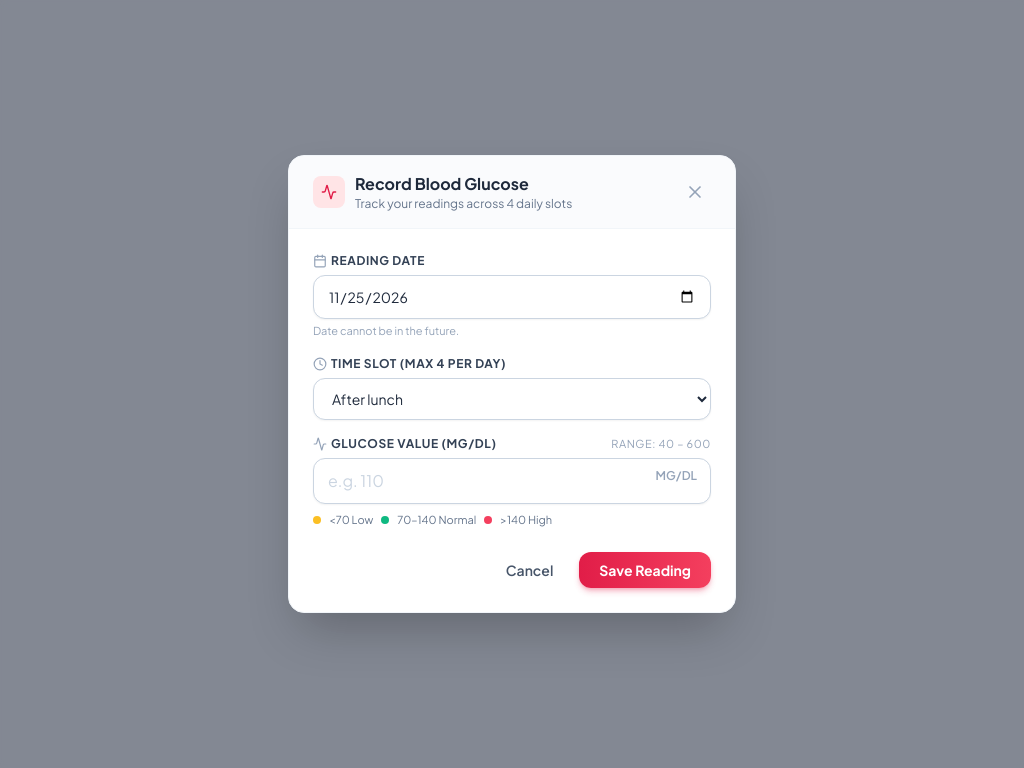
Scenario: ReadingModal Form Component & Validation Rules › displays backend error message if backend rejects request (e.g. duplicate slot)
In the number field with test id "input-value": (512, 480) [313, 458, 711, 504], type "140"
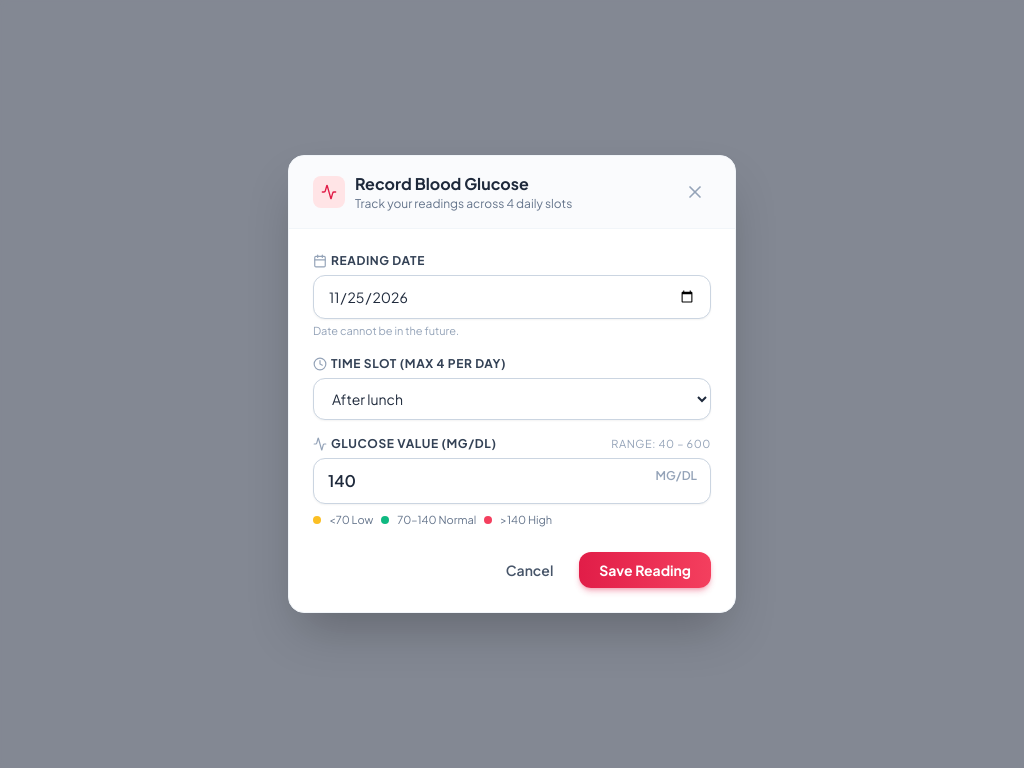
Click the button with test id "submit-reading-btn": click(645, 570) [579, 552, 711, 588]
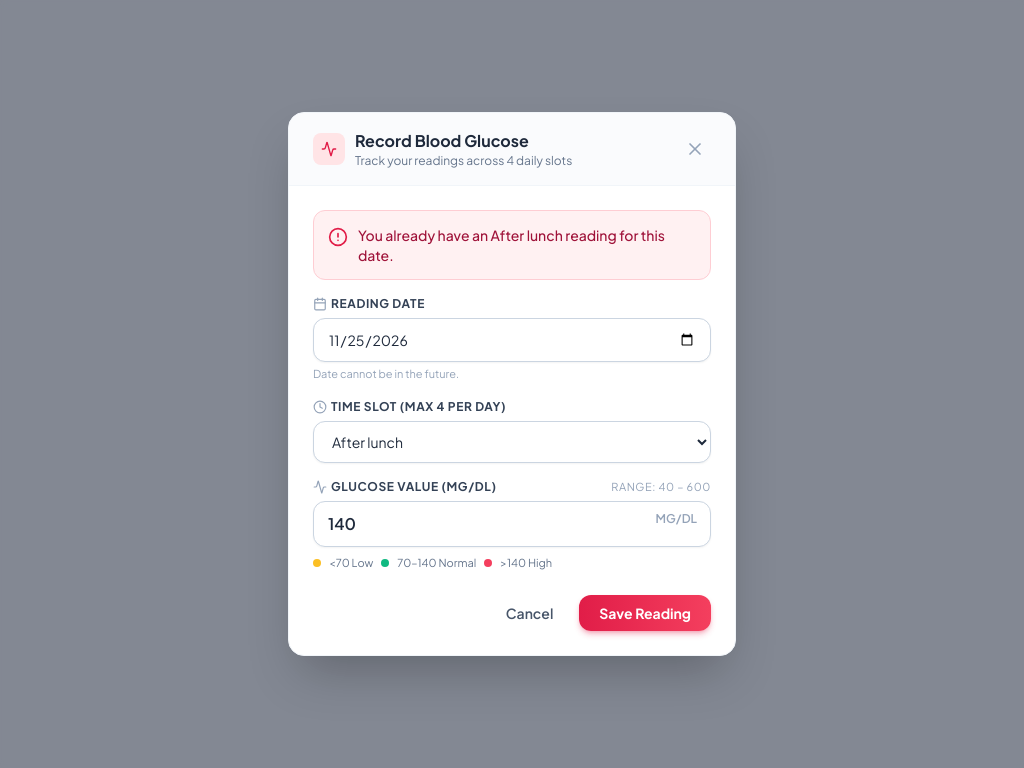
Expected: the message "You already have an After lunch reading for this date." is shown, [313, 210, 711, 280]
Expected: the message with test id "validation-error-message" reads "You already have an After lunch reading for this date.", [358, 226, 665, 264]
